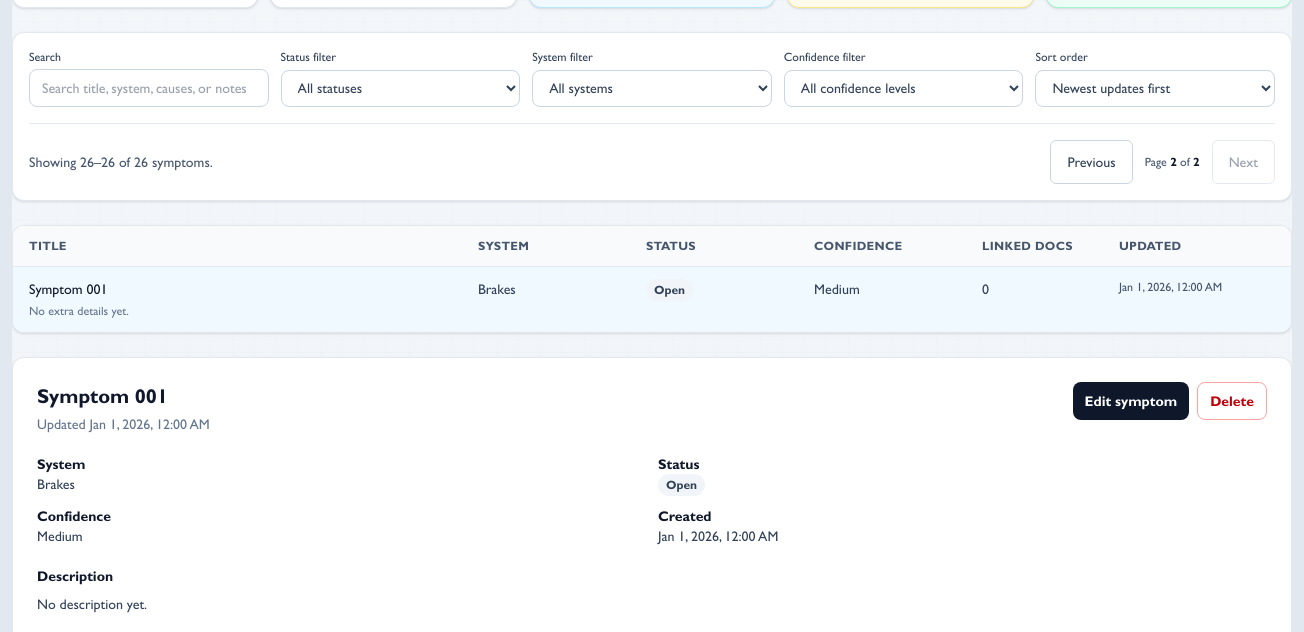
deleting the only row on the last page steps back a page
The image size is (1304, 632).
(page scrolled)
Step 1. Click the button "Delete" → [1232, 401], box [1197, 382, 1267, 420]
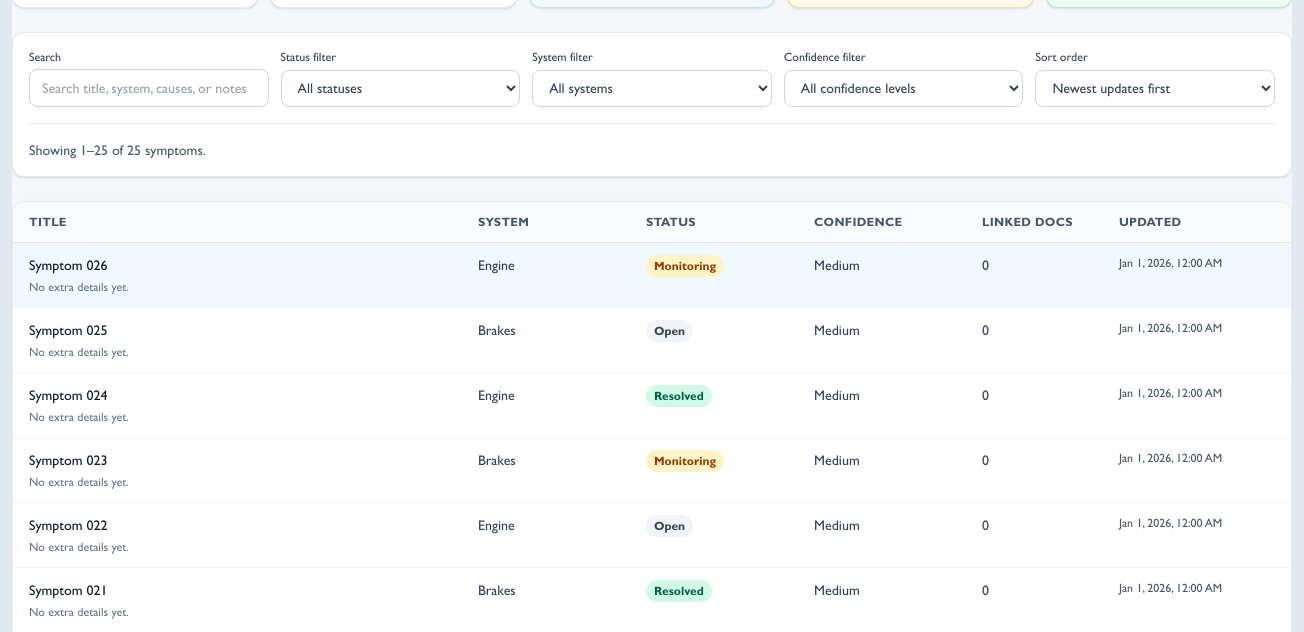
Check: the text "Showing 1–25 of 25 symptoms." is shown, box [29, 140, 206, 160]
Check: the text "Symptom 026" is shown, box [29, 257, 107, 273]
